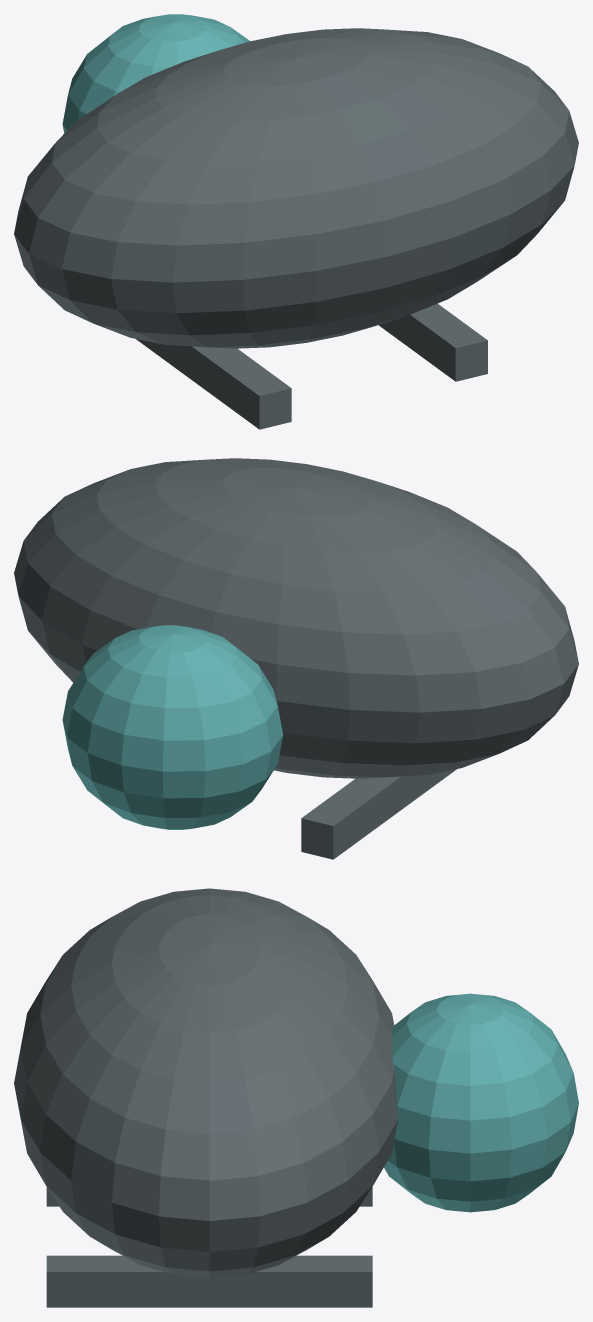
Rendered from beetle_simple.fbx.
3 views of the same model, one above another, from view 1: azimuth 30°, elevation 25°; view 2: azimuth 150°, elevation 25°; view 3: azimuth 270°, elevation 25° (orthographic). The views are drawn at different scales.
Parts seen in each view (by area): view 1: beetle_simple, beetle_simple_Head, beetle_simple_Leg.001, beetle_simple_Leg.003; view 2: beetle_simple, beetle_simple_Head, beetle_simple_Leg.002, beetle_simple_Leg.001; view 3: beetle_simple, beetle_simple_Head, beetle_simple_Leg.003, beetle_simple_Leg.
Part boxes in pixels (bbox=[...]): beetle_simple: bbox=[14, 28, 578, 348]; beetle_simple_Head: bbox=[62, 14, 250, 132]; beetle_simple_Leg.001: bbox=[167, 345, 291, 429]; beetle_simple_Leg.003: bbox=[378, 303, 487, 381]; beetle_simple: bbox=[14, 458, 578, 778]; beetle_simple_Head: bbox=[62, 625, 283, 829]; beetle_simple_Leg.002: bbox=[301, 777, 395, 859]; beetle_simple_Leg.001: bbox=[383, 769, 456, 813]; beetle_simple: bbox=[14, 888, 398, 1278]; beetle_simple_Head: bbox=[384, 993, 578, 1212]; beetle_simple_Leg.003: bbox=[46, 1255, 242, 1307]; beetle_simple_Leg: bbox=[177, 1255, 372, 1307].
Size of the model in its own units: 0.3 by 0.154 by 0.26.
